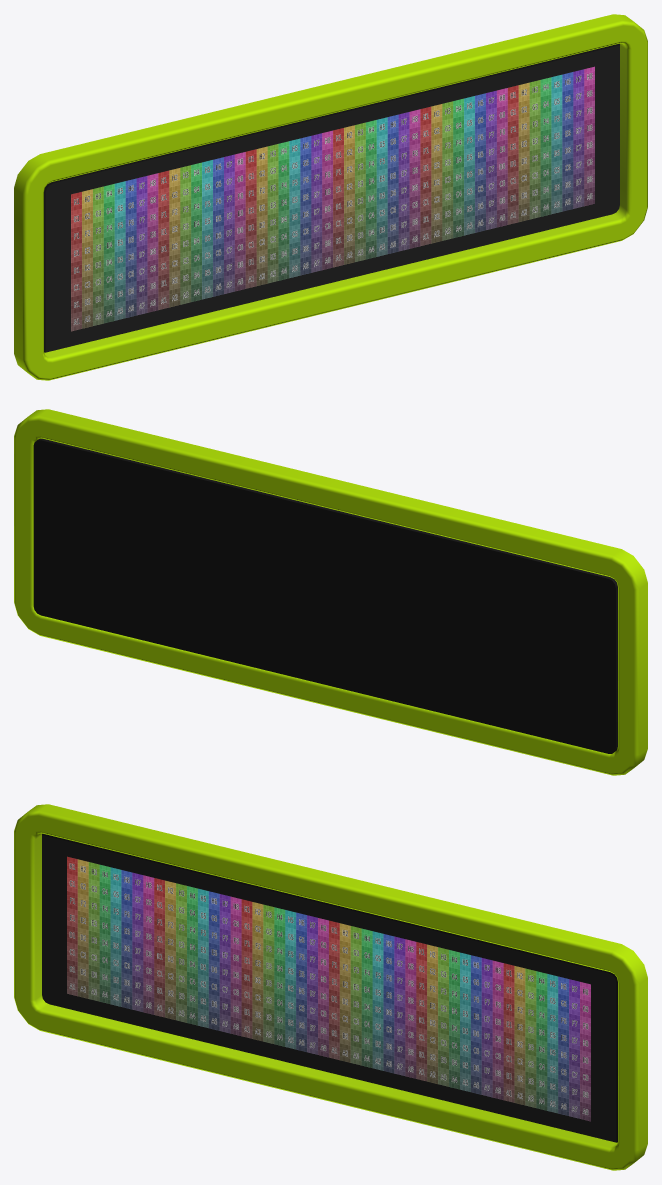
Rendered from electronic-display-board.glb.
The picture shows the model from 3 angles, top to bottom: view 1: azimuth 30°, elevation 25°; view 2: azimuth 150°, elevation 25°; view 3: azimuth 330°, elevation 25°; orthographic projection.
Parts seen in each view (by area): view 1: __X_DISPLAY__, __X_BODY__cover, Body; view 2: Body, __X_BODY__cover; view 3: __X_DISPLAY__, __X_BODY__cover, Body.
Part boxes in pixels (x1=…): __X_DISPLAY__: x1=71, y1=66, x2=594, y2=331; __X_BODY__cover: x1=14, y1=14, x2=647, y2=380; Body: x1=44, y1=43, x2=619, y2=352; Body: x1=33, y1=438, x2=617, y2=753; __X_BODY__cover: x1=14, y1=409, x2=647, y2=775; __X_DISPLAY__: x1=67, y1=856, x2=590, y2=1121; __X_BODY__cover: x1=14, y1=804, x2=647, y2=1170; Body: x1=42, y1=833, x2=617, y2=1142.
Bounding box in the file's own units: 0.8595 × 0.2895 × 0.03.
4 materials, 1 textured.
